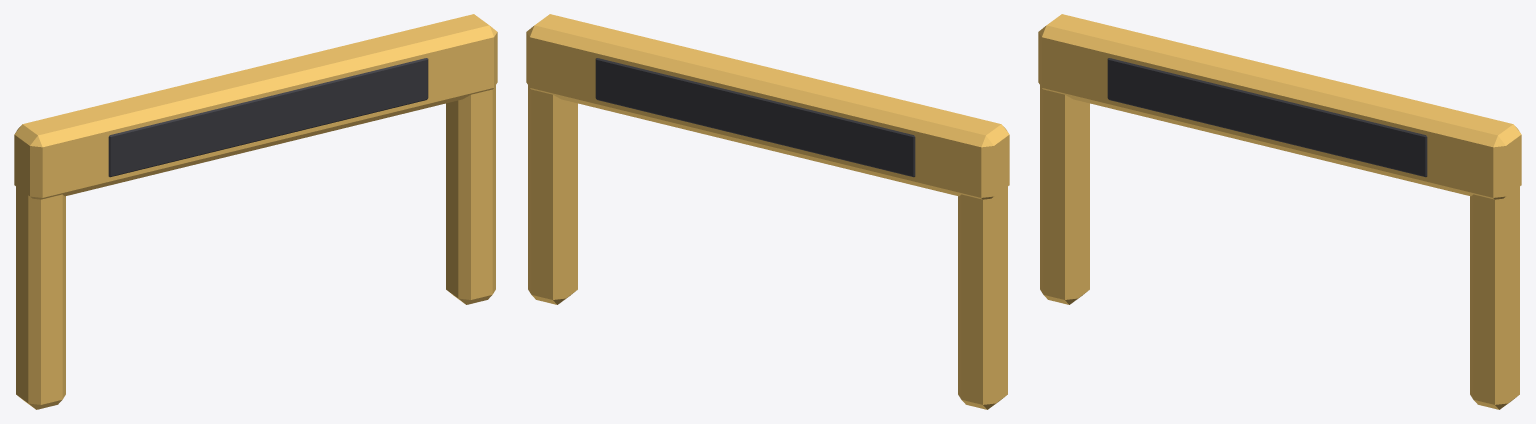
Rendered from festival_arch.glb.
The picture shows the model from 3 angles, left to right: view 1: azimuth 30°, elevation 25°; view 2: azimuth 150°, elevation 25°; view 3: azimuth 330°, elevation 25°; orthographic projection.
Parts seen in each view (by area): view 1: festival_arch; view 2: festival_arch; view 3: festival_arch.
Part boxes in pixels (<box>): festival_arch: <box>14,14,497,409</box>; festival_arch: <box>526,14,1009,409</box>; festival_arch: <box>1038,14,1521,409</box>.
Size of the model in its own units: 17.4 by 9.8 by 1.7.
